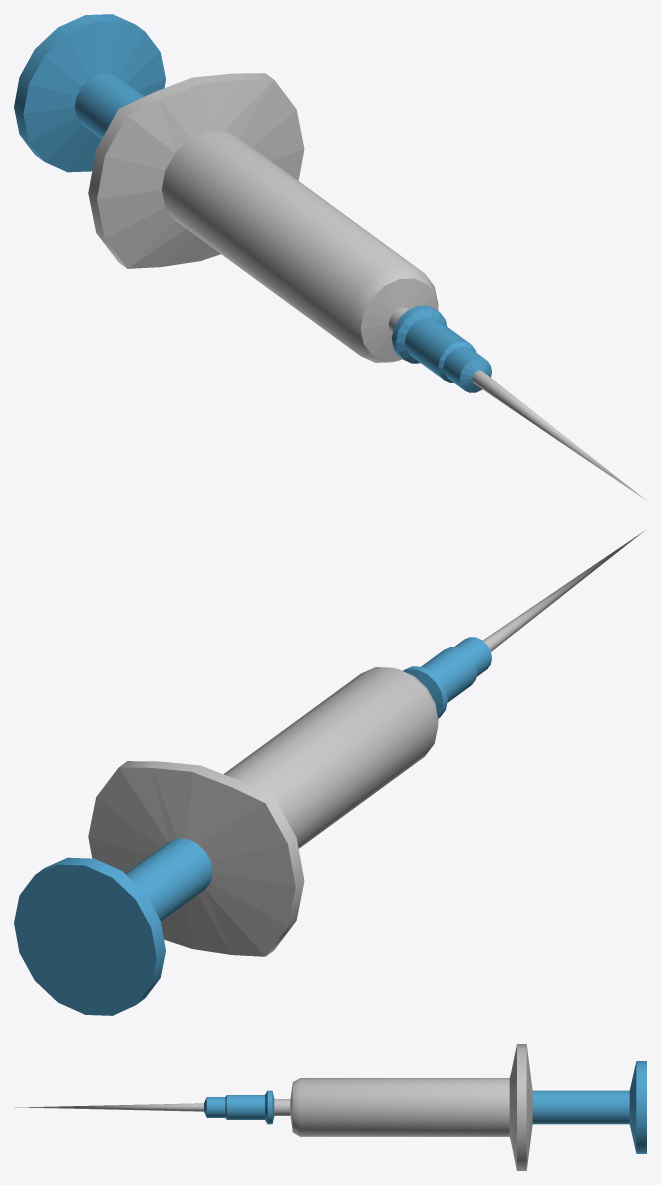
The model's file is strzykawka.FBX.
3 renders of one model, top to bottom at view 1: azimuth 30°, elevation 25°; view 2: azimuth 150°, elevation 25°; view 3: azimuth 270°, elevation 25°, orthographic. The views are drawn at different scales.
Visible parts, largest first — view 1: Cylinder001; view 2: Cylinder001; view 3: Cylinder001.
Part boxes in pixels (box(x1,y1,x2,y2)): Cylinder001: box(14, 14, 645, 499); Cylinder001: box(14, 530, 645, 1015); Cylinder001: box(14, 1044, 646, 1170).
Size of the model in its own units: 3.2 by 2.61 by 15.
